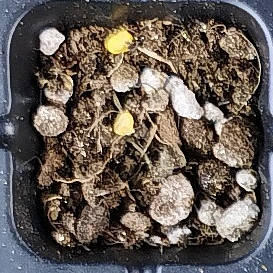pepper seed: (44, 40, 181, 178), (35, 2, 171, 56)
